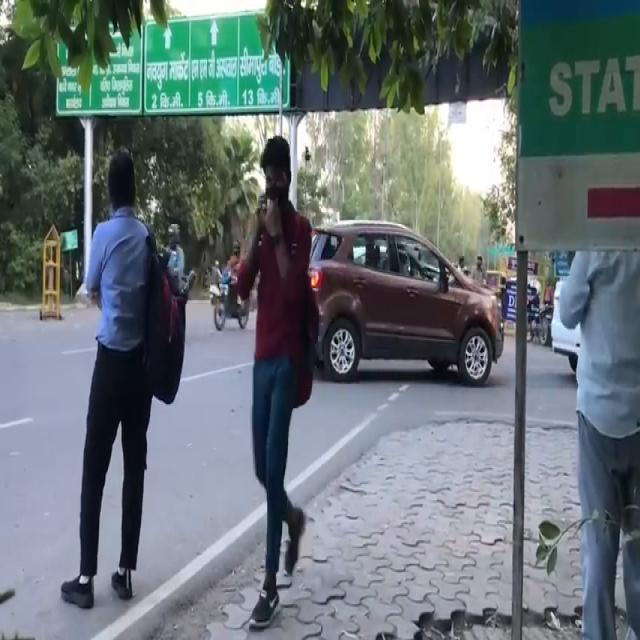MOTORCYCLE: (209, 266, 250, 328)
SUV: (304, 214, 504, 388)
